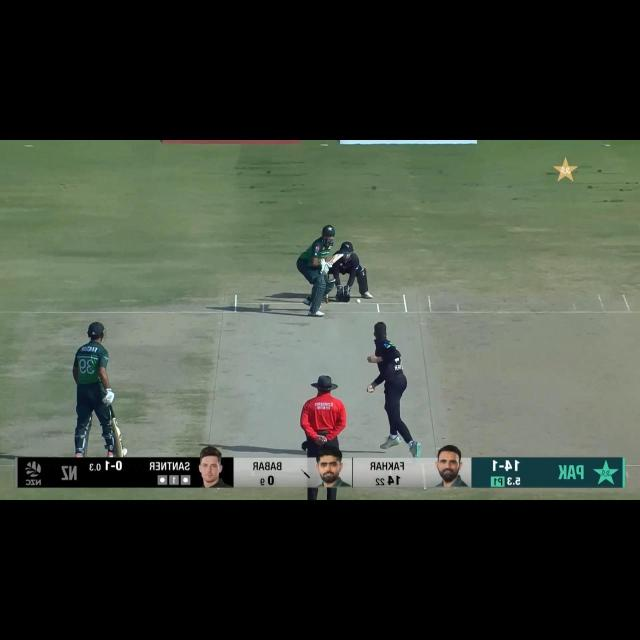bat: (110, 418, 126, 458), (328, 252, 344, 266)
toe: (114, 447, 125, 458), (334, 253, 344, 258)
